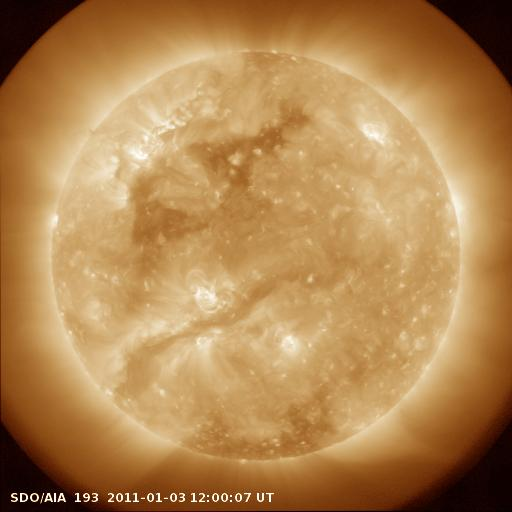coronal_hole: (178, 396, 338, 471), (184, 101, 309, 186), (125, 162, 209, 260)
